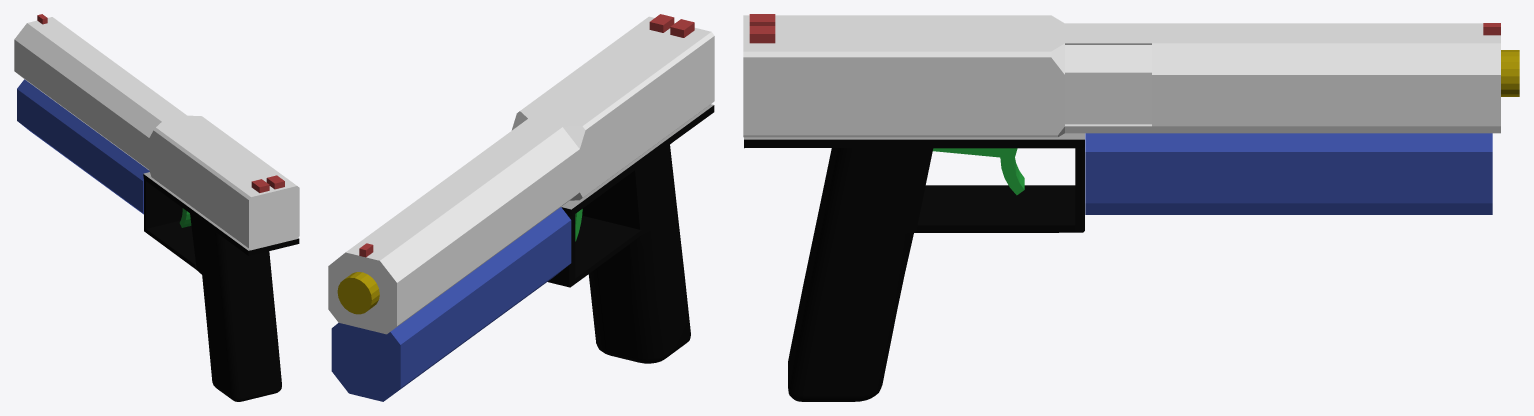
Rendered from Ceep_Gun.fbx.
3 renders of one model, left to right at view 1: azimuth 30°, elevation 25°; view 2: azimuth 150°, elevation 25°; view 3: azimuth 270°, elevation 25°, orthographic. The views are drawn at different scales.
Visible parts, largest first — view 1: pCube9; view 2: pCube9; view 3: pCube9.
Boxes of the visible parts, x1,y1,x2,y2 form: pCube9: [14, 14, 299, 401]; pCube9: [328, 14, 714, 401]; pCube9: [743, 14, 1519, 401].
Bounding box in the file's own units: 1 × 4.21 × 8.2.
